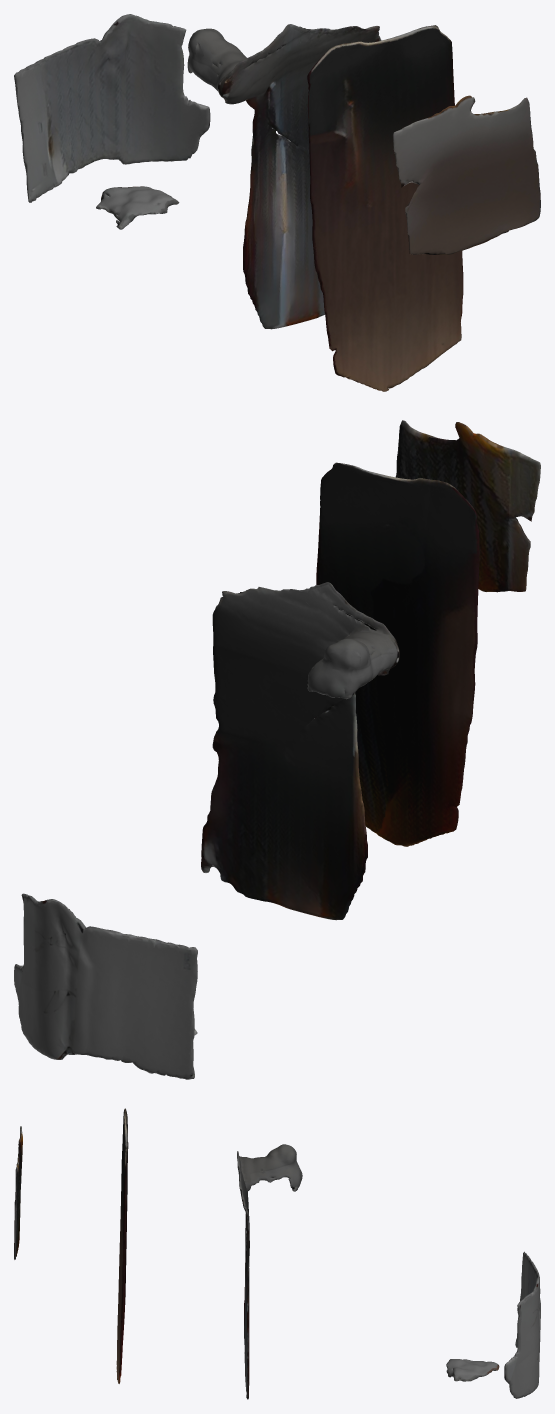
Rendered from kitchen_1102.glb.
The picture shows the model from 3 angles, top to bottom: view 1: azimuth 30°, elevation 25°; view 2: azimuth 150°, elevation 25°; view 3: azimuth 270°, elevation 25°; orthographic projection. The views are drawn at different scales.
Visible parts, largest first — view 1: tripo_node_41bee29c-d624-4f1d-b968-8562f1aef72f; view 2: tripo_node_41bee29c-d624-4f1d-b968-8562f1aef72f; view 3: tripo_node_41bee29c-d624-4f1d-b968-8562f1aef72f.
Part boxes in pixels (box(x1,y1,x2,y2)): tripo_node_41bee29c-d624-4f1d-b968-8562f1aef72f: box(14, 14, 540, 391); tripo_node_41bee29c-d624-4f1d-b968-8562f1aef72f: box(14, 420, 540, 1079); tripo_node_41bee29c-d624-4f1d-b968-8562f1aef72f: box(14, 1108, 540, 1399).
Size of the model in its own units: 0.2986 by 0.5336 by 1.
Materials: 1 (1 with a texture image).
